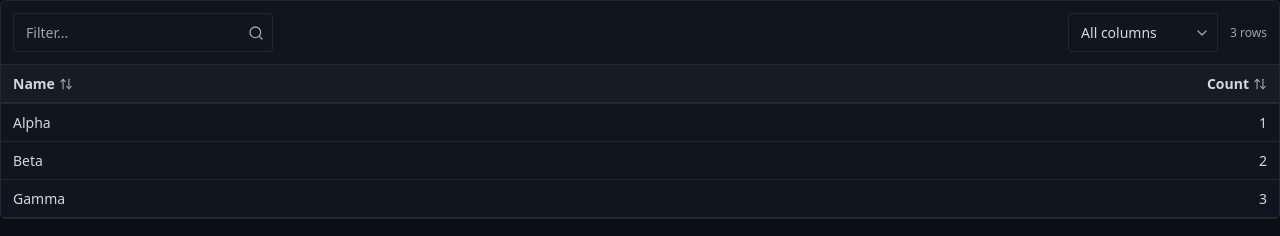
Test: Table — filter behavior › deleting the filter back to empty restores every row
This screenshot has width=1280, height=236.
Type "alp" into the field with placeholder "Filter...".
click(127, 32); type("alp")  # box left=14, top=14, right=240, bottom=51
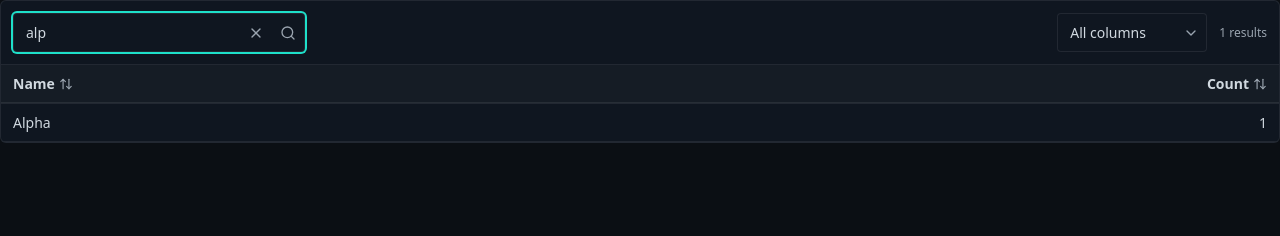
Expected: the text "Beta" is gone
Clear the field with placeholder "Filter..." at [127, 32], box left=14, top=14, right=240, bottom=51
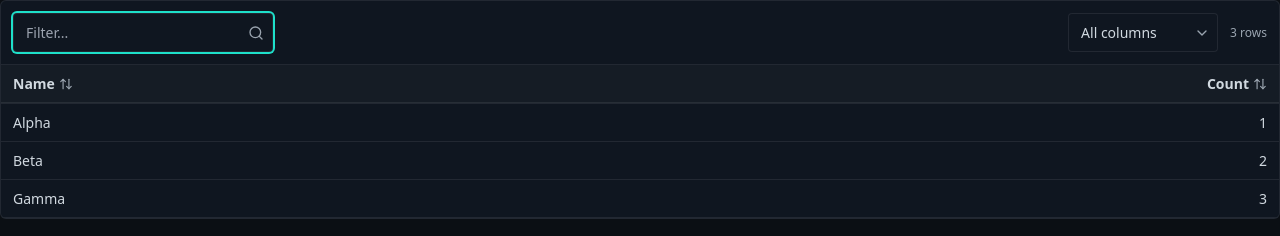
Expected: the text "Alpha" is shown, left=13, top=113, right=51, bottom=132
Expected: the text "Beta" is shown, left=13, top=151, right=43, bottom=170
Expected: the text "Gamma" is shown, left=13, top=189, right=65, bottom=208
